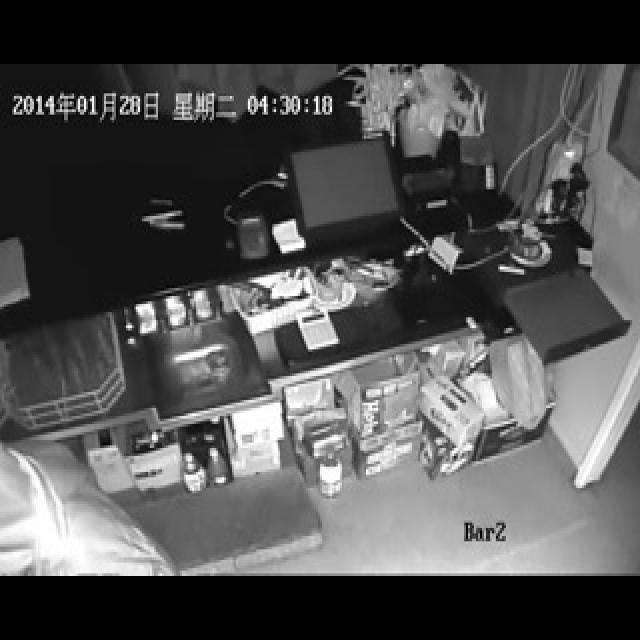thief: (0, 436, 173, 572)
